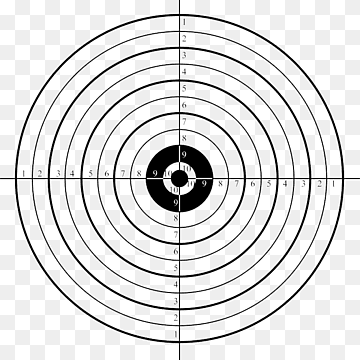target: (10, 8, 353, 348)
